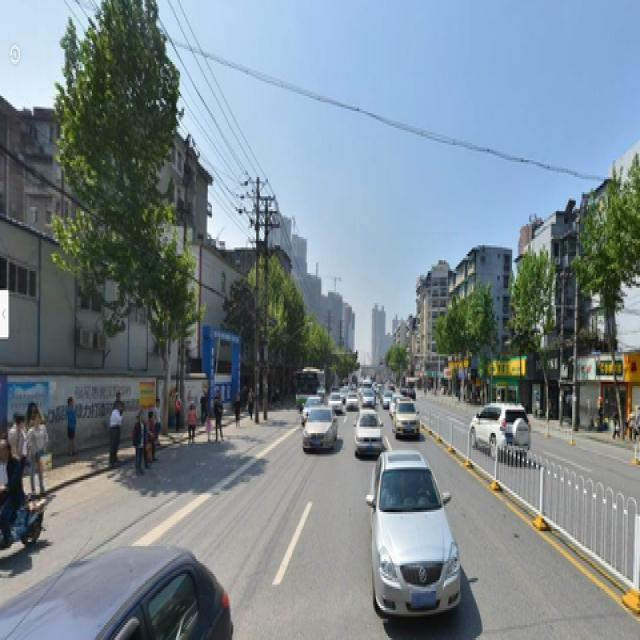meta: (88, 17, 192, 422)
